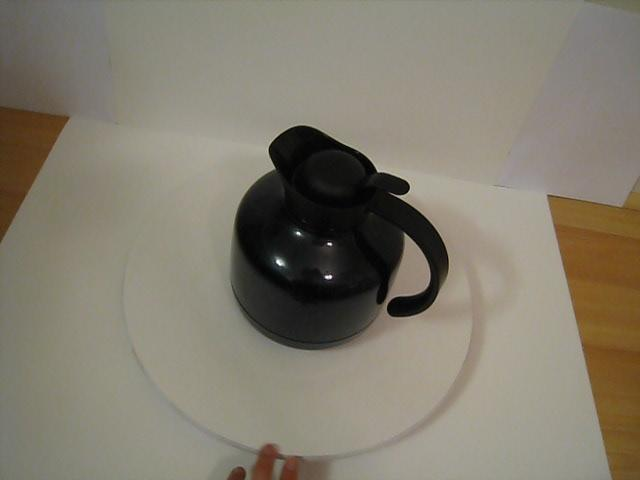pitcher: (210, 96, 462, 386)
